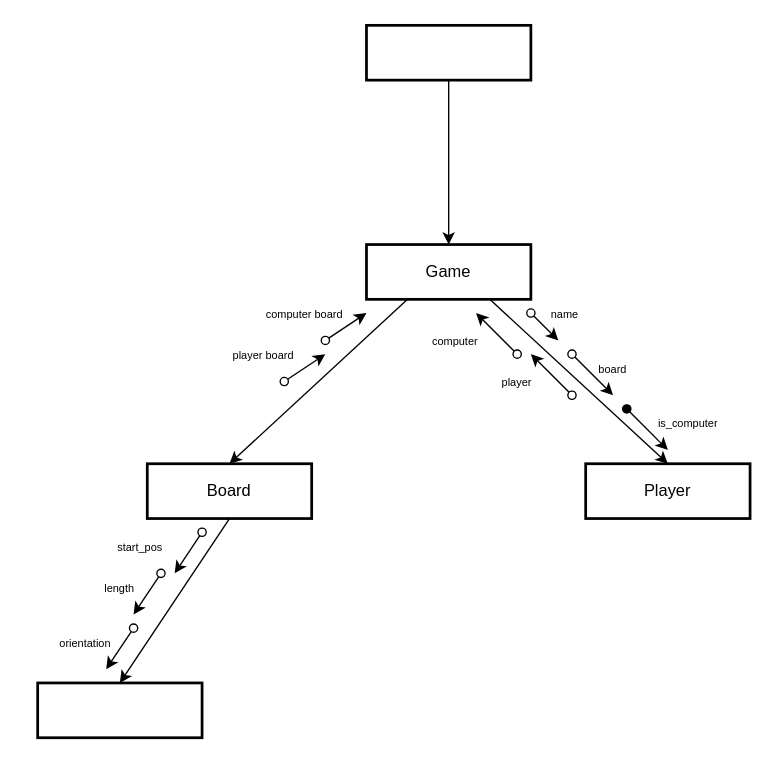
Image size: 774x762. Some labels were removed from this diagram. Each missing label, with the box of its shape:
Battleship: (364, 23, 532, 81)
Ship: (36, 681, 203, 738)
